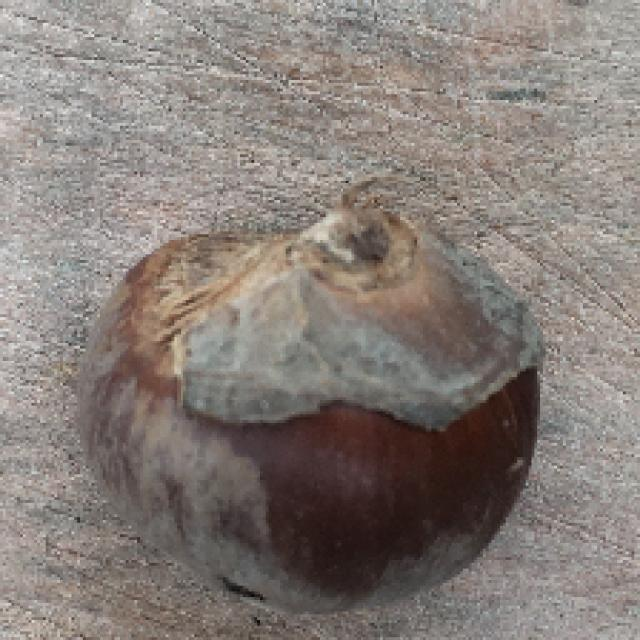DamagedHazelnut: (76, 207, 544, 607)
